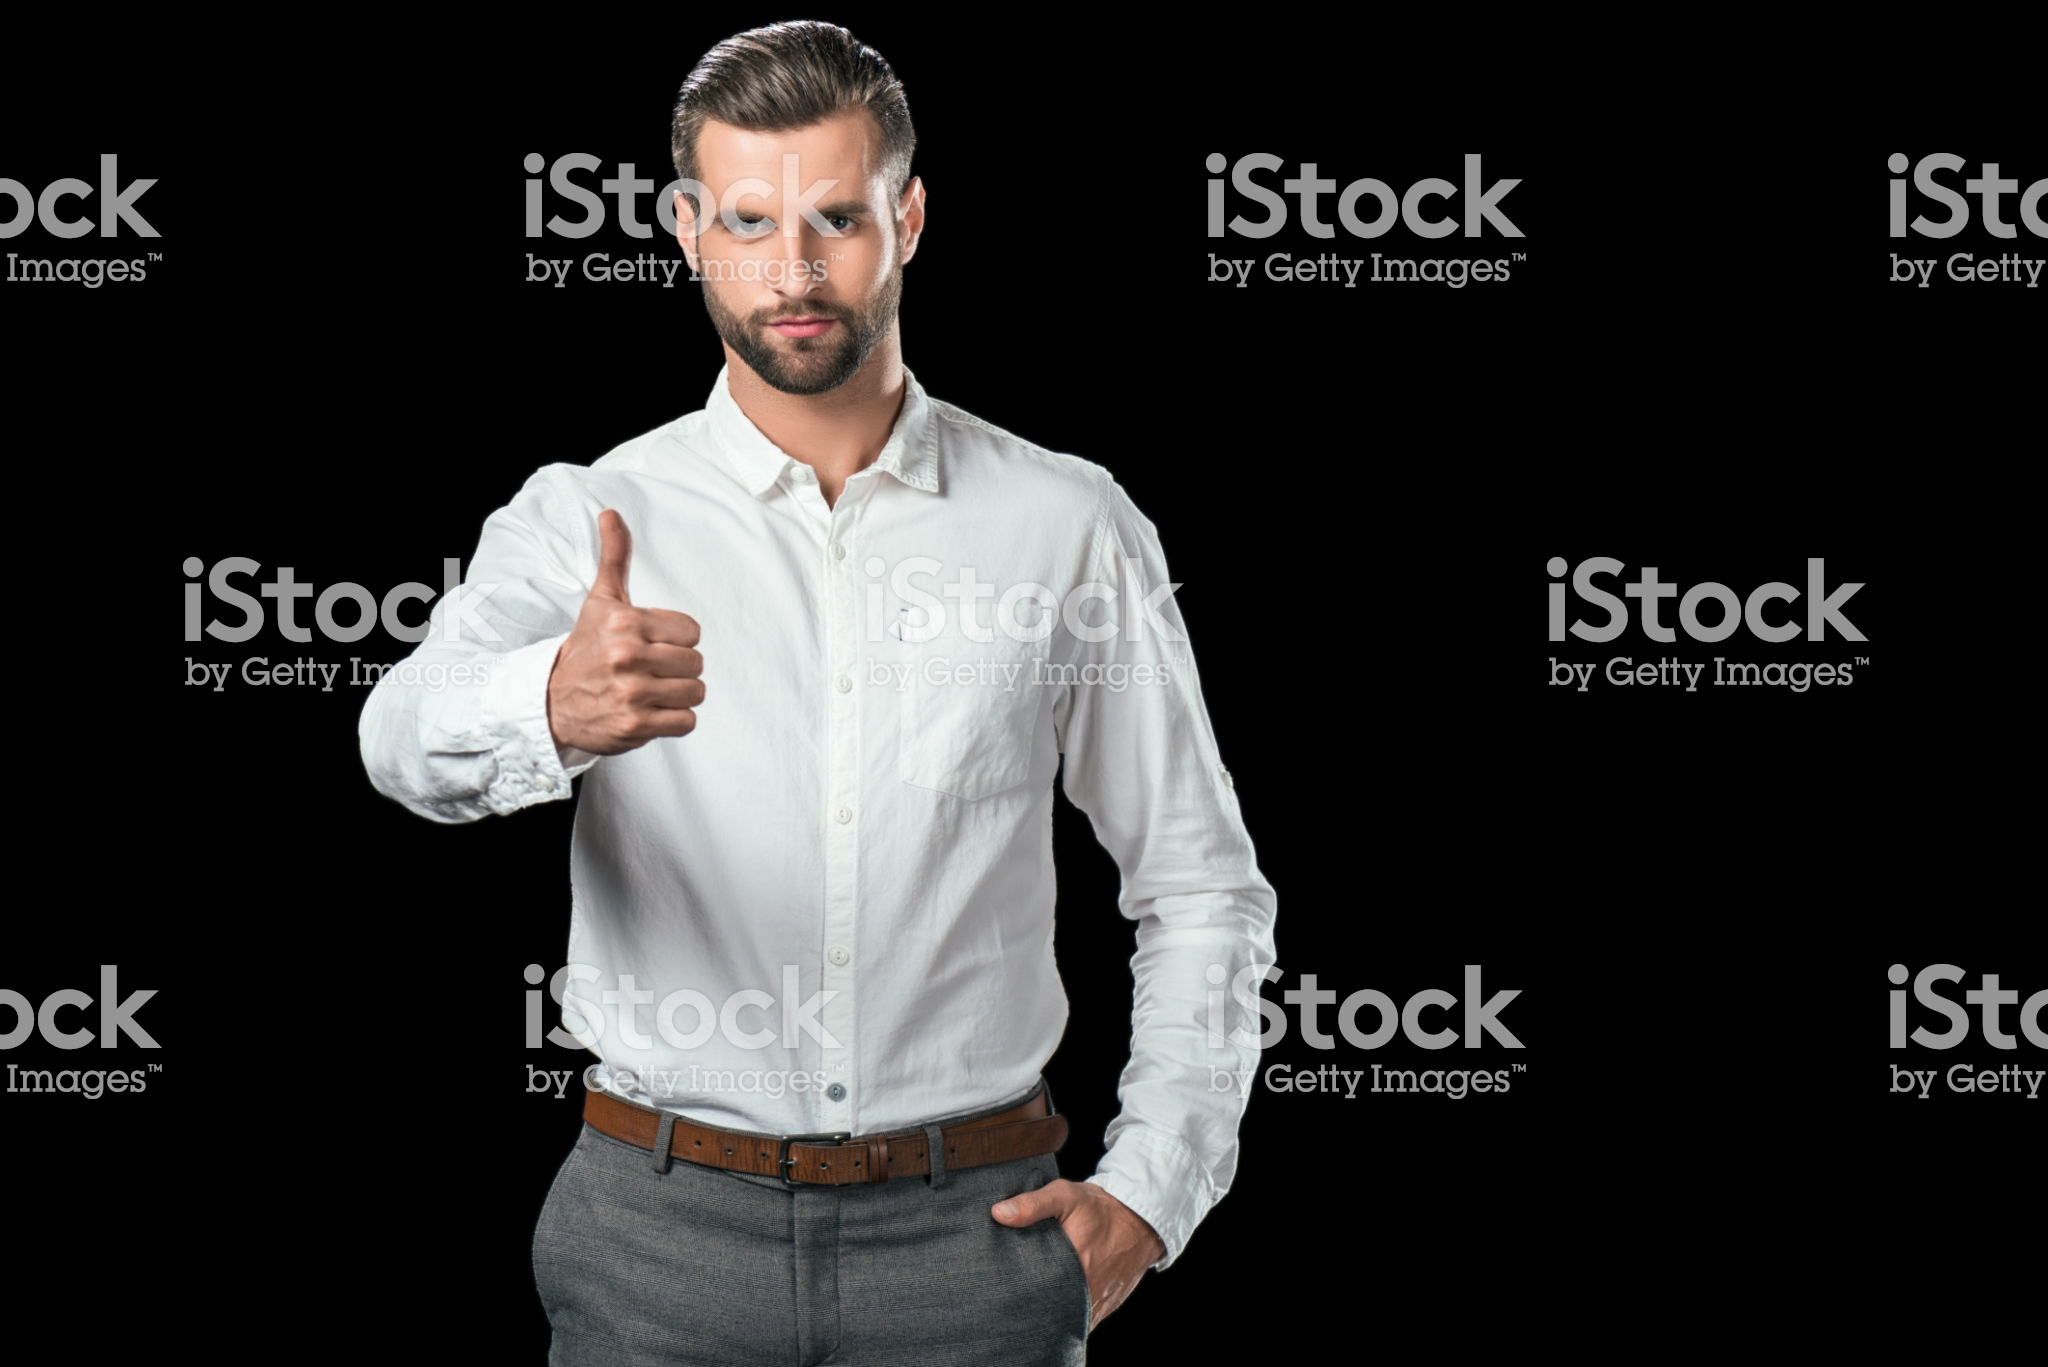thumbsup: (567, 505, 711, 752)
